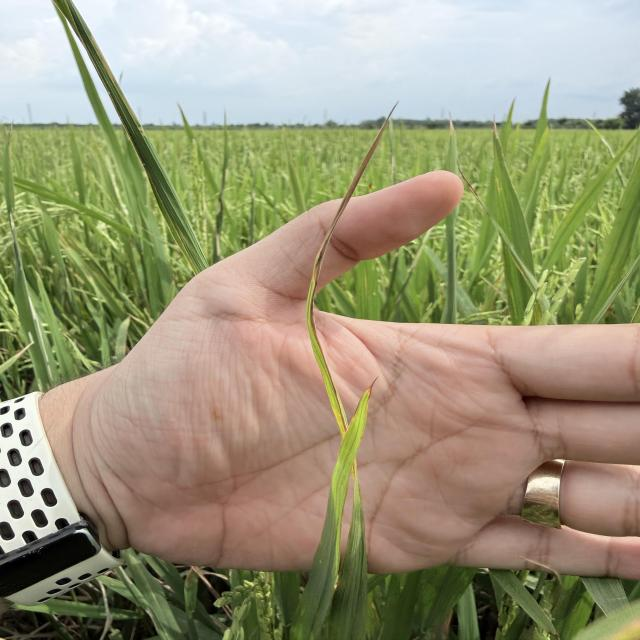Chay bia la: (306, 99, 398, 377)
